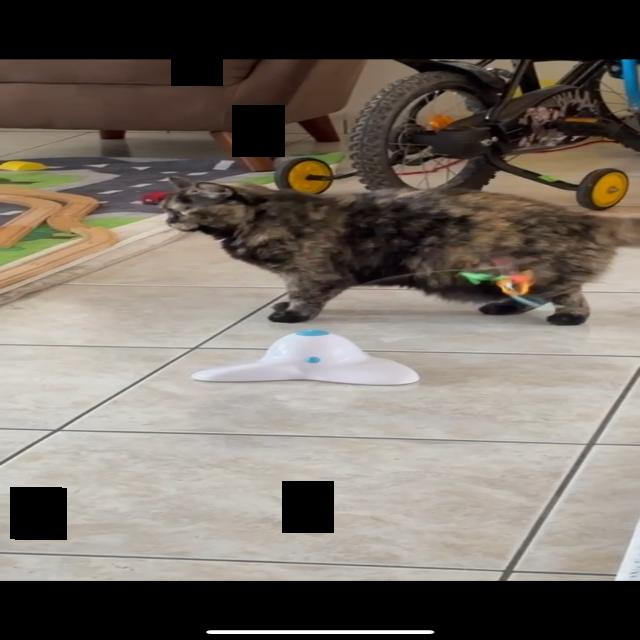authorized: (156, 175, 638, 326)
